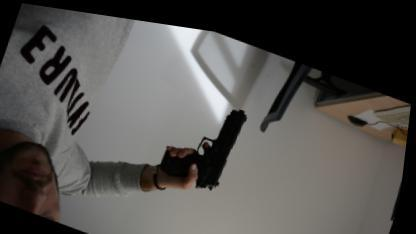pistol: (158, 79, 252, 192)
